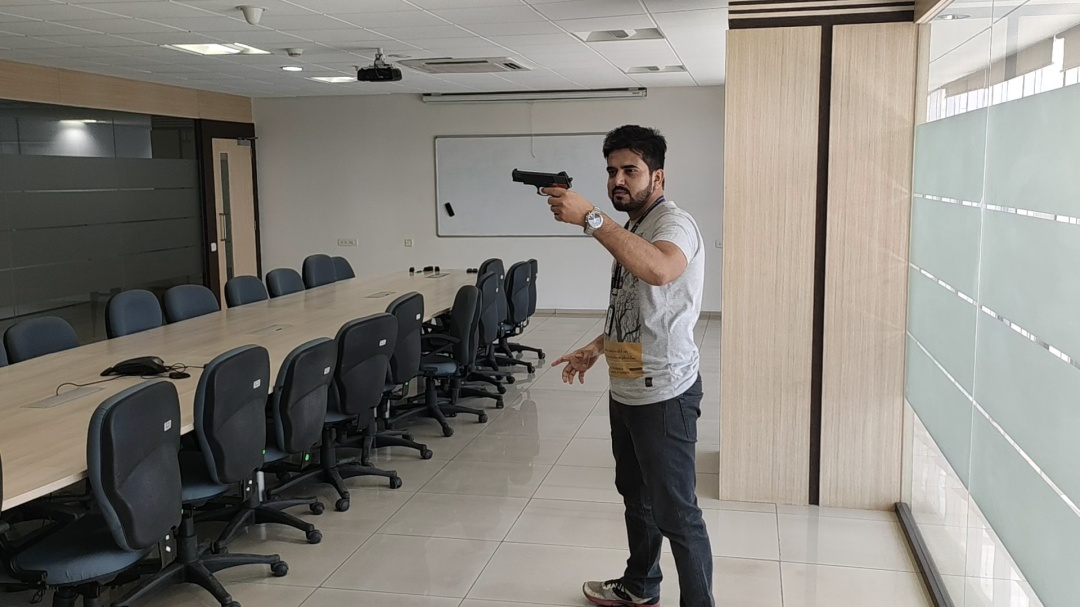gun: (507, 162, 579, 198)
